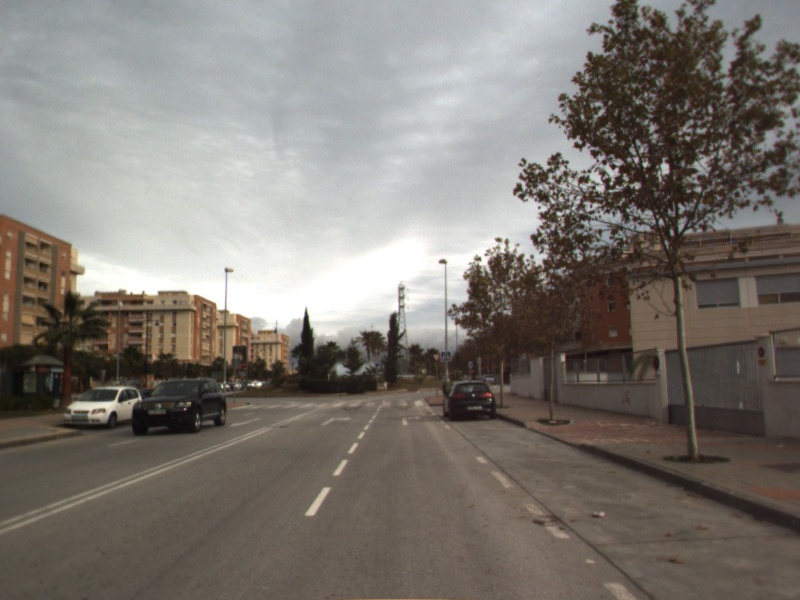RIGHT: (319, 414, 354, 428), (400, 413, 424, 427)
